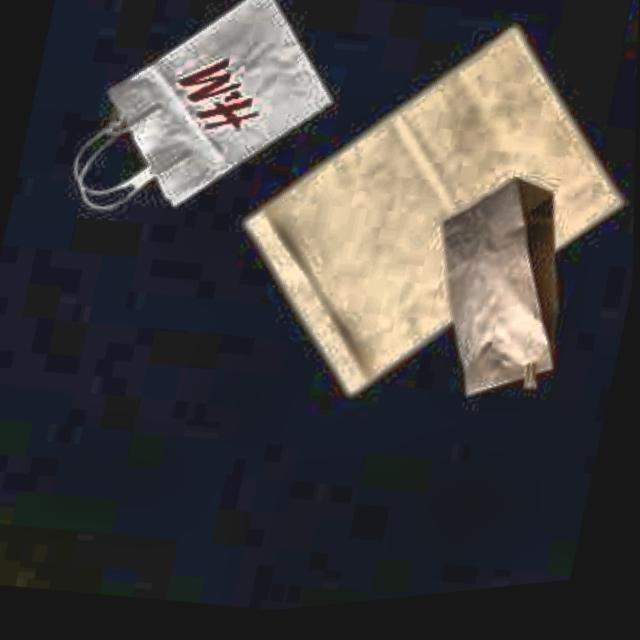Paper-bag: (200, 0, 640, 472), (50, 0, 366, 284), (396, 156, 611, 452)
